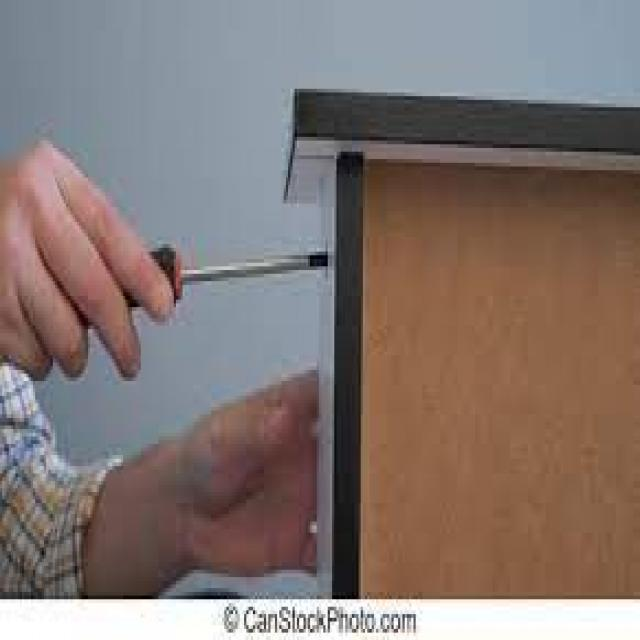screwdriver: (22, 231, 336, 342)
